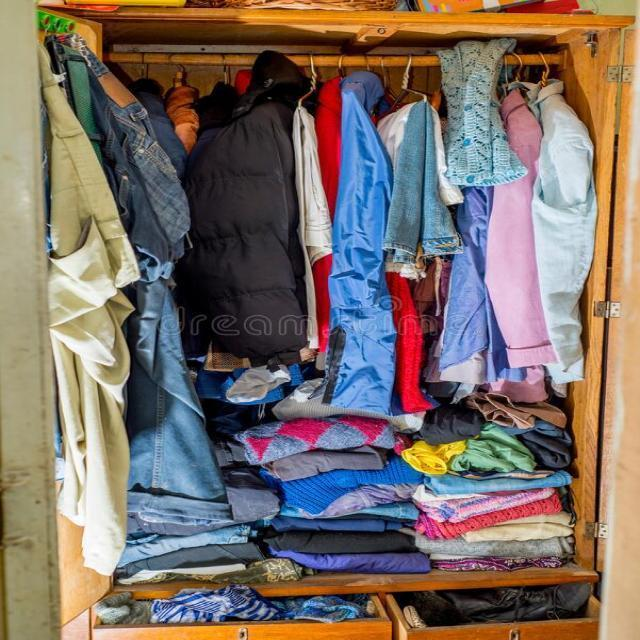clothes: (68, 81, 576, 568)
